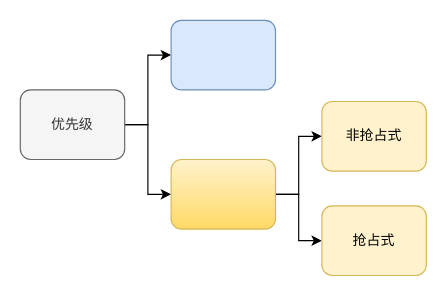
This 447x296 diagram has some shape labels left out. Each missing label, with the box of its shape:
动态优先级: (170, 158, 276, 229)
静态优先级: (170, 19, 276, 90)
